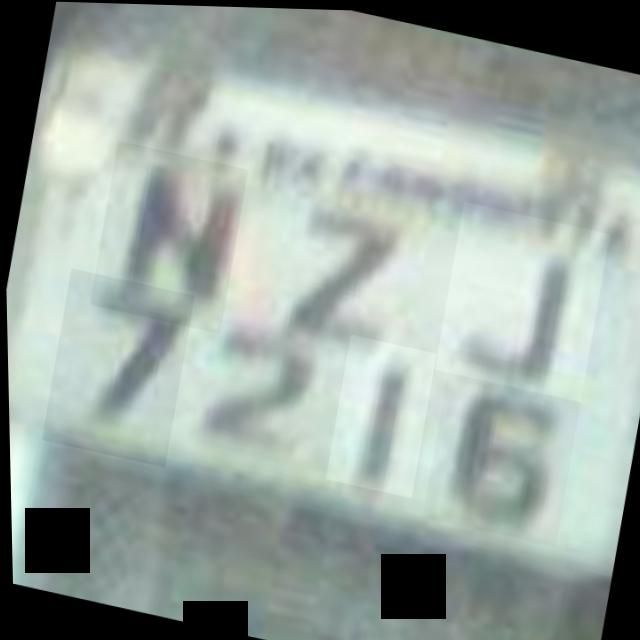1: (321, 332, 437, 496)
6: (417, 345, 586, 544)
7: (37, 268, 196, 467)
J: (430, 198, 612, 400)
N: (85, 139, 251, 333)
Z: (239, 173, 417, 369)
